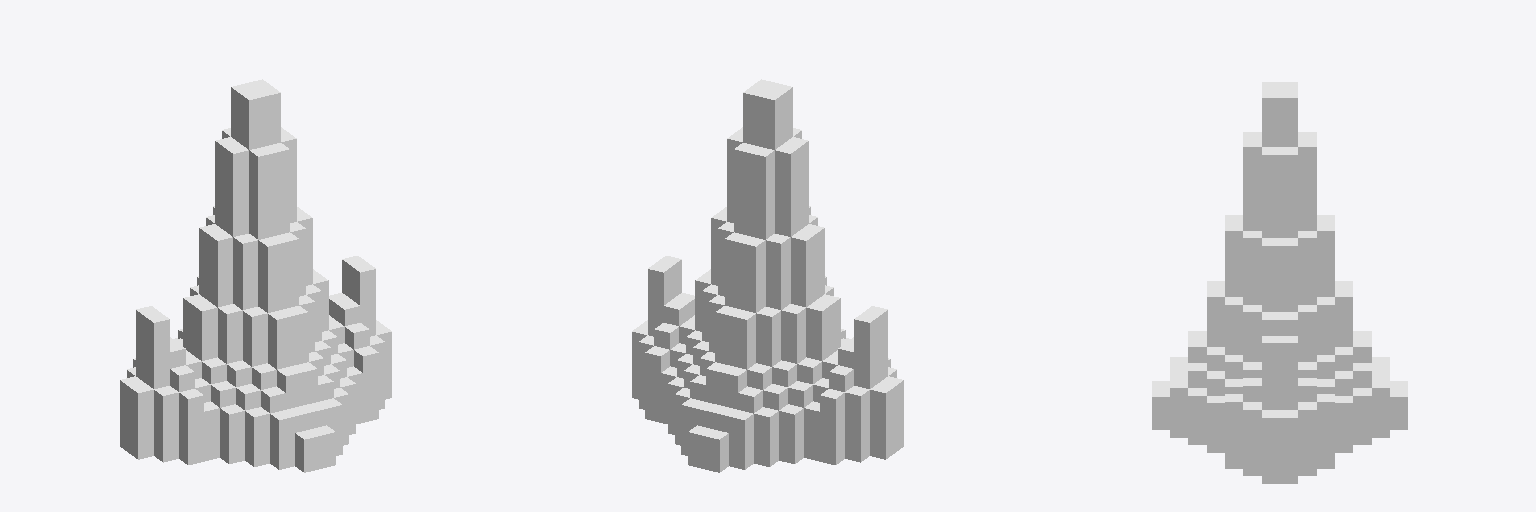
Rendered from Smol-Spike2.obj.
3 views of the same model, side by side, from view 1: azimuth 30°, elevation 25°; view 2: azimuth 150°, elevation 25°; view 3: azimuth 270°, elevation 25° (orthographic).
Visible parts, largest first — view 1: object 1; view 2: object 1; view 3: object 1.
Boxes of the visible parts, <box> form: object 1: <box>120,79,391,472</box>; object 1: <box>632,79,903,472</box>; object 1: <box>1152,82,1407,483</box>.
Bounding box in the file's own units: 1.6 × 2 × 1.4.